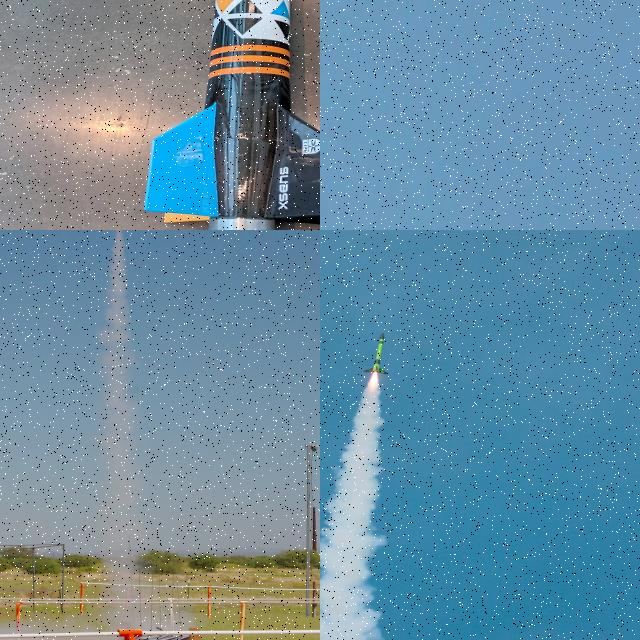Rocket: (143, 0, 320, 230), (363, 331, 388, 375)
